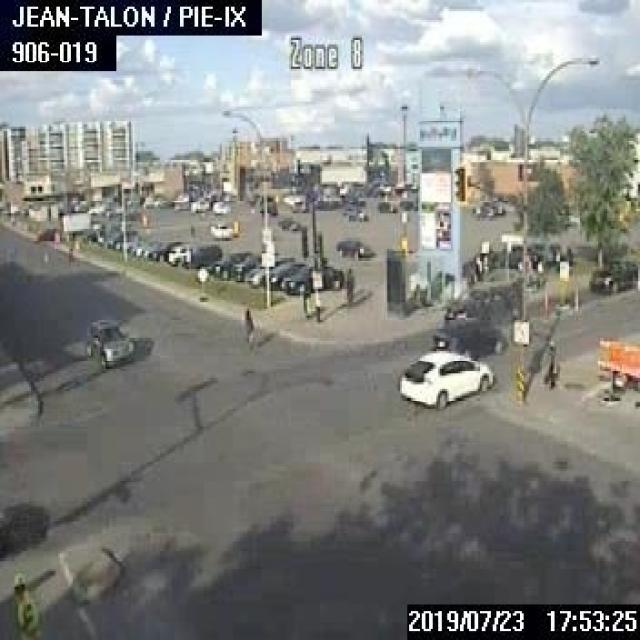construction: (604, 336, 638, 394)
pedestrian: (9, 569, 40, 638), (540, 340, 558, 391), (242, 306, 252, 346), (300, 278, 310, 314), (344, 266, 352, 304)
vehicle: (396, 348, 491, 407), (430, 319, 506, 356), (84, 313, 134, 369), (441, 287, 512, 326), (589, 256, 638, 294), (280, 263, 342, 293), (244, 253, 294, 284), (260, 261, 306, 288), (204, 250, 248, 278), (488, 244, 538, 266), (0, 511, 22, 560), (229, 252, 264, 280), (186, 242, 222, 267), (334, 236, 369, 258), (146, 239, 181, 260), (165, 244, 187, 265), (209, 222, 231, 238), (470, 203, 493, 217), (483, 198, 503, 214), (277, 216, 298, 229), (346, 207, 367, 220), (377, 200, 396, 211)
